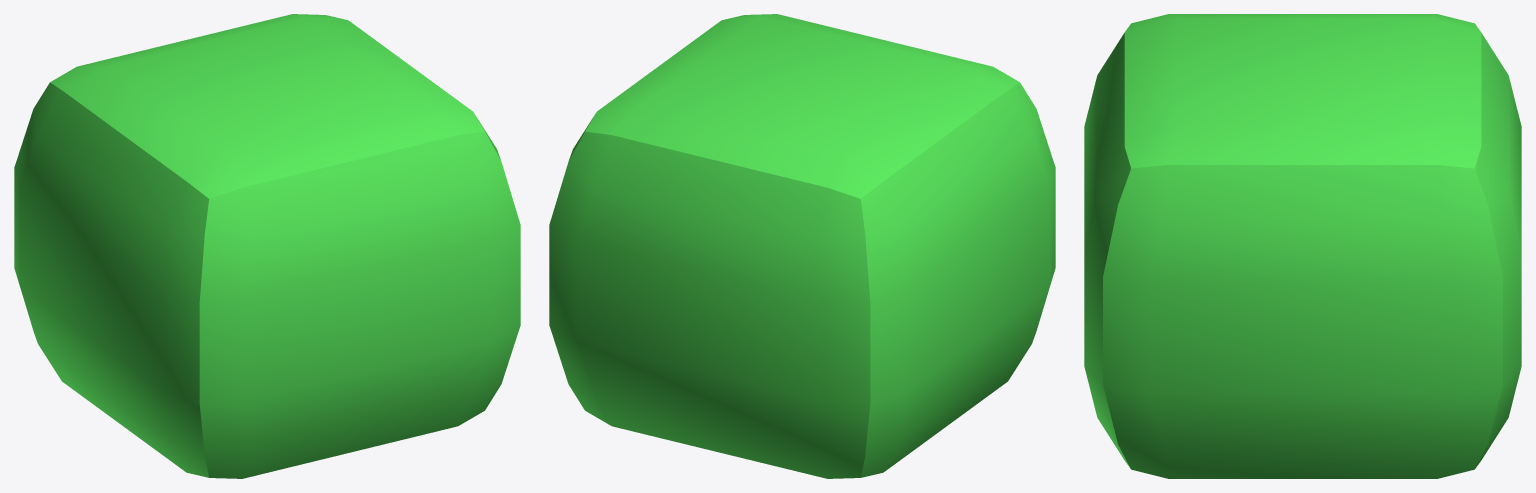
File: Bush_C.fbx
The picture shows the model from 3 angles, left to right: view 1: azimuth 30°, elevation 25°; view 2: azimuth 150°, elevation 25°; view 3: azimuth 270°, elevation 25°; orthographic projection. The views are drawn at different scales.
Parts seen in each view (by area): view 1: Bush_C; view 2: Bush_C; view 3: Bush_C.
Boxes of the visible parts, <box> form: Bush_C: <box>14,14,520,478</box>; Bush_C: <box>549,14,1055,478</box>; Bush_C: <box>1084,14,1521,478</box>.
Size of the model in its own units: 89.37 by 78.85 by 89.37.
